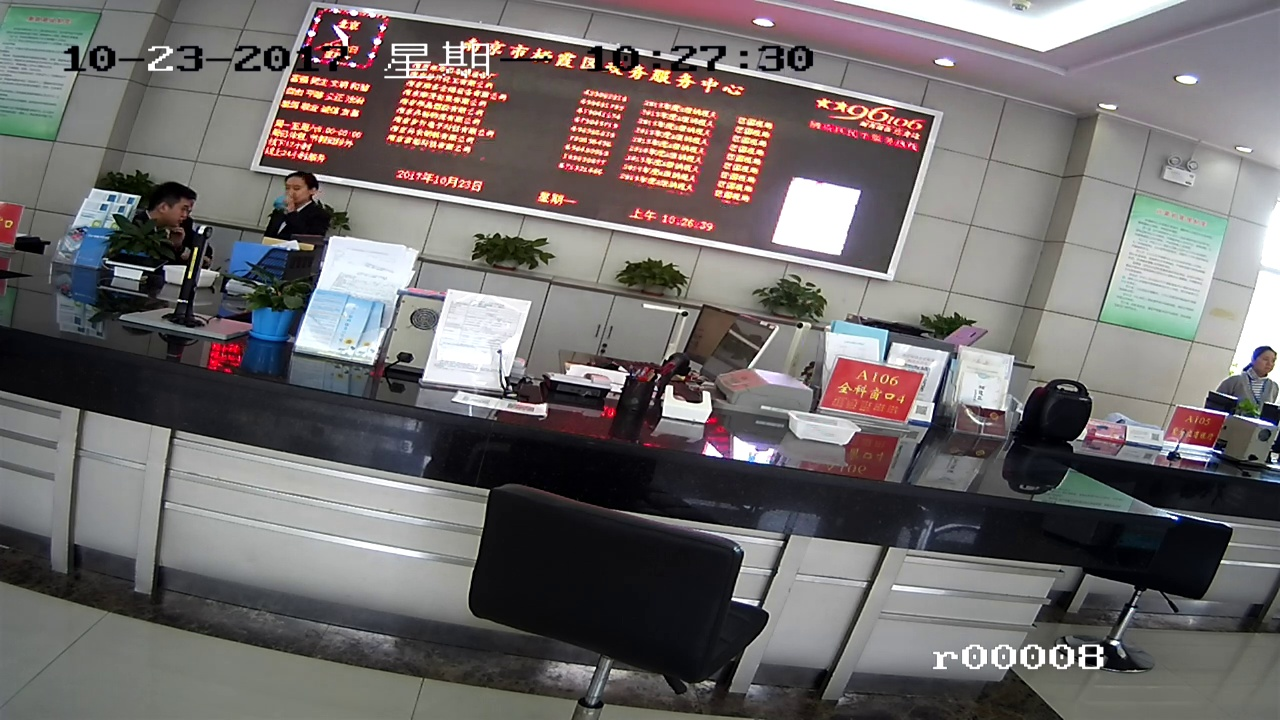billboard: (7, 11, 63, 142), (834, 365, 917, 426)
chair: (472, 495, 760, 715)
monitor: (310, 32, 839, 196)
person: (277, 168, 316, 229), (1236, 346, 1276, 403), (150, 189, 196, 223)
pot: (482, 234, 547, 278), (769, 275, 826, 320), (622, 263, 683, 296)
